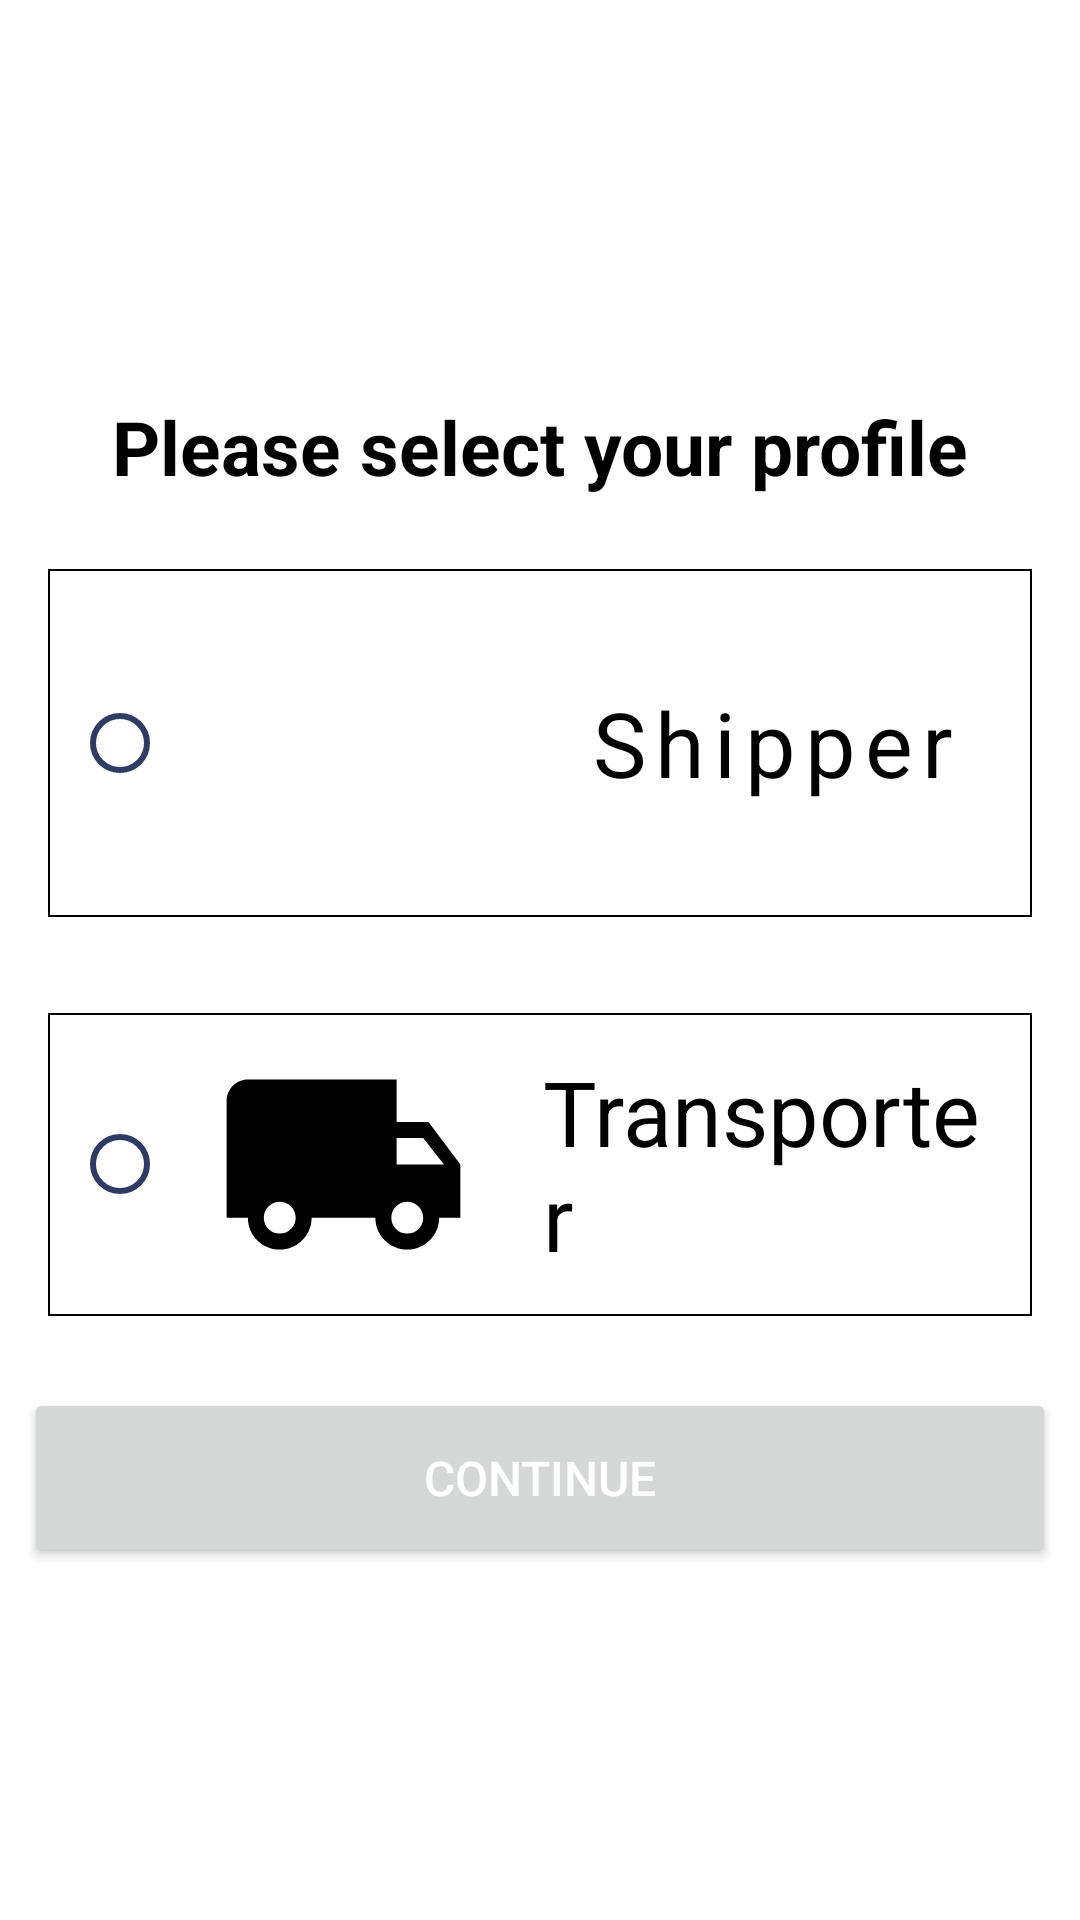

Icon bounding boxes for this 1080x1920 phone screenshot, format (x1, y1, x2, y2):
local shipping: (226, 1079, 461, 1250)
